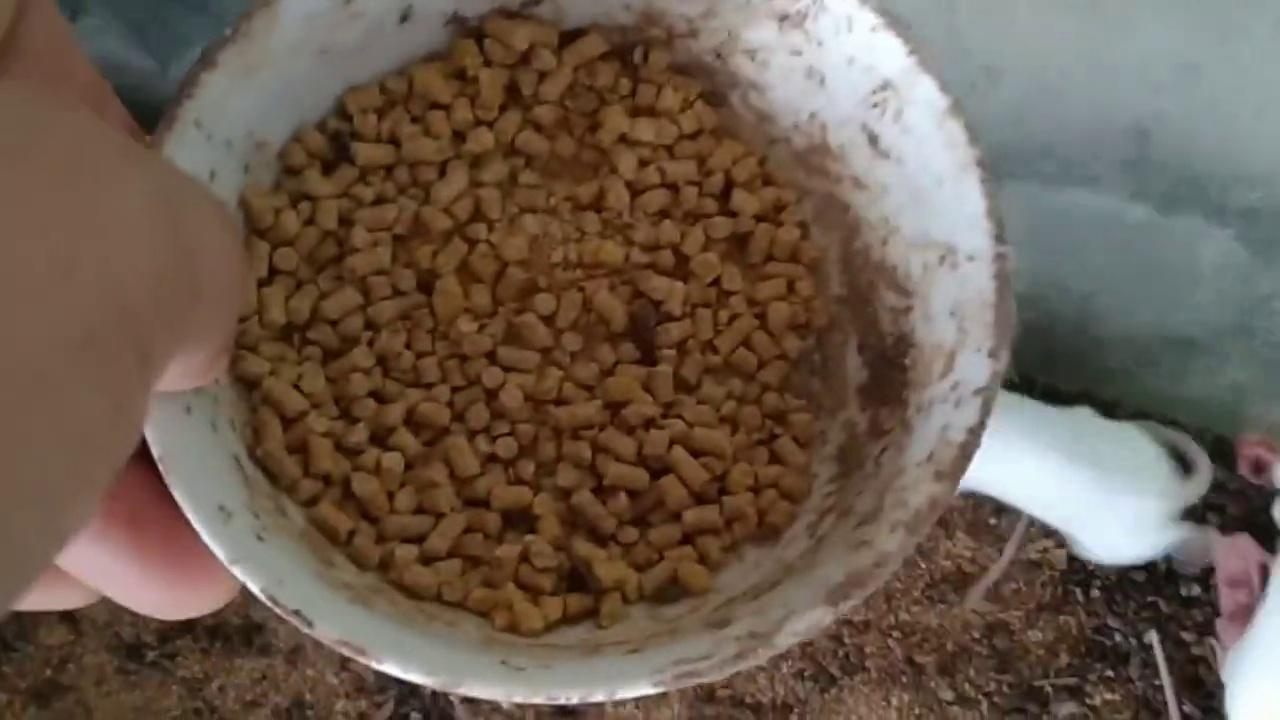rat: (956, 389, 1213, 567)
